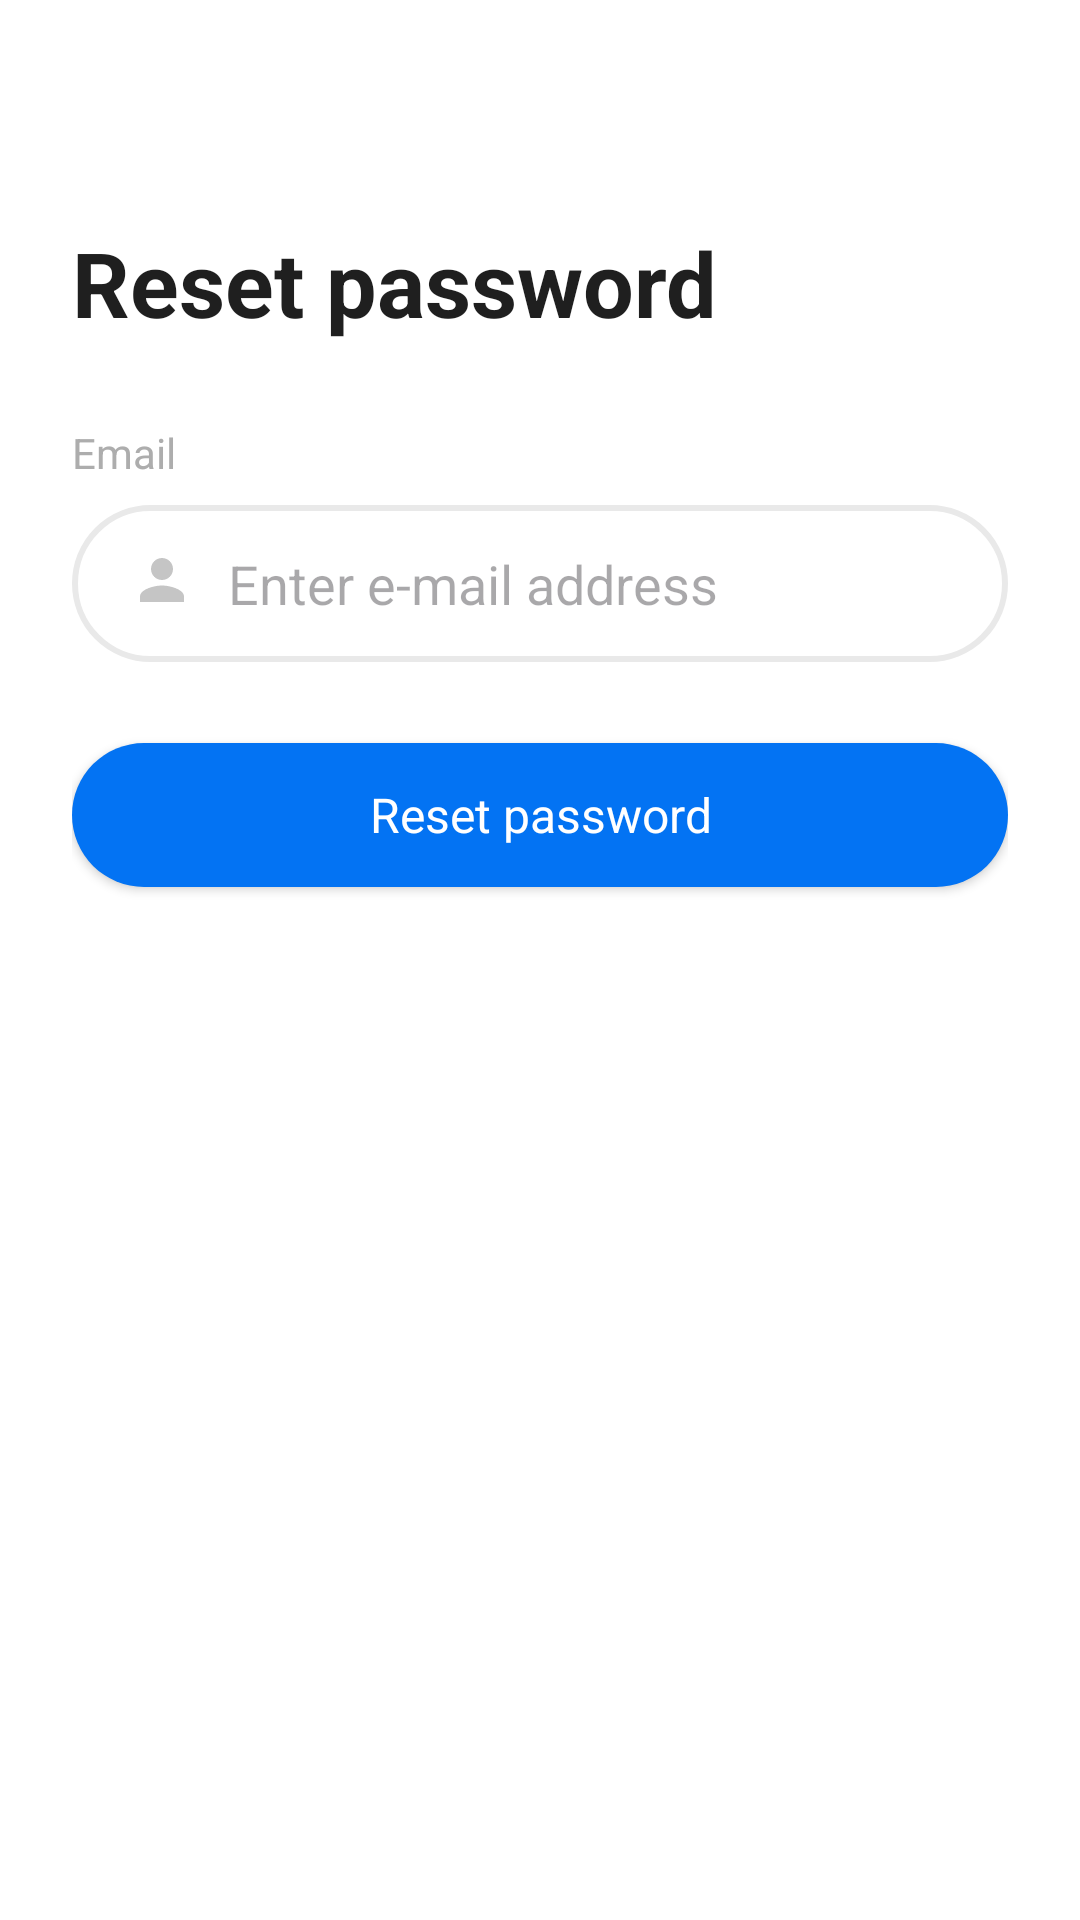

Where to tap for icons on this 1080x1920 app screen, as (x=x, y=y):
person: (x=162, y=580)
